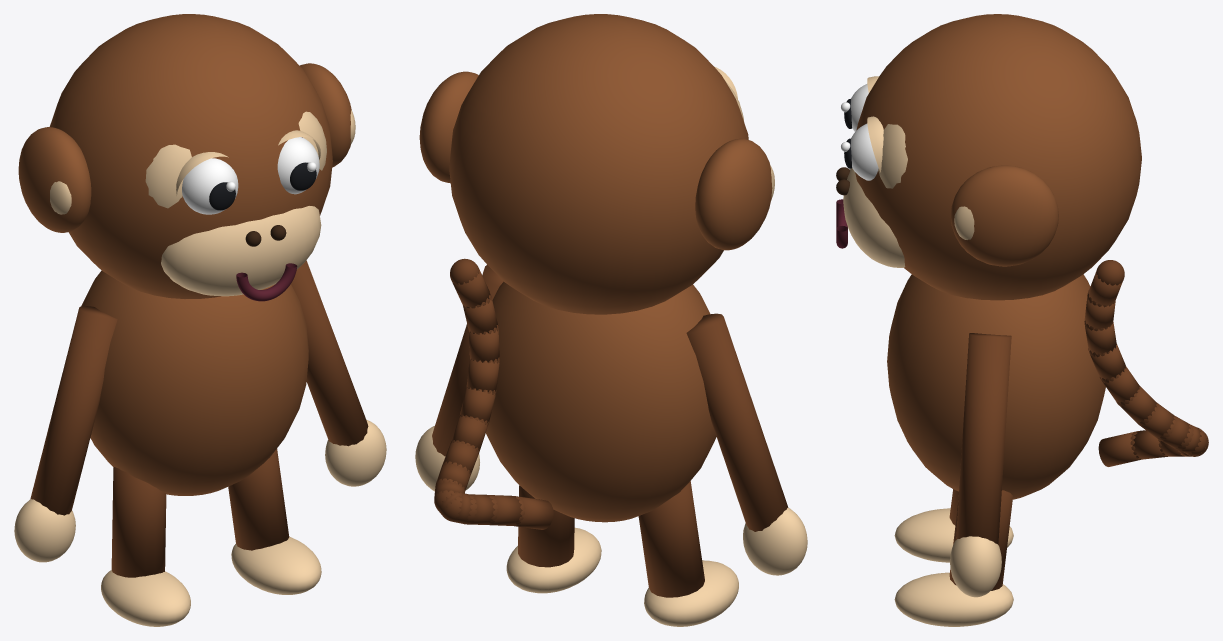
File: mono.glb
3 views of the same model, side by side, from view 1: azimuth 30°, elevation 25°; view 2: azimuth 150°, elevation 25°; view 3: azimuth 270°, elevation 25° (orthographic). The views are drawn at different scales.
Visible parts, largest first — view 1: Sphere.004, Sphere, brazo_i, Sphere.011, brazo_d, Sphere.006, Cylinder, Cylinder.001, Sphere.002, Sphere.003, Sphere.009, Sphere.005 (+7 smaller); view 2: Sphere.004, Sphere, brazo_i, cola, Sphere.006, Cylinder, brazo_d, Sphere.002, Sphere.009, Sphere.003, Cylinder.001; view 3: Sphere.004, Sphere, brazo_d, cola, Sphere.009, Sphere.003, Sphere.011, Sphere.002, Sphere.008, Sphere.014, Cylinder.001, parpado_d (+1 smaller).
Part boxes in pixels (<box>): Sphere.004: <box>49,14,332,298</box>; Sphere: <box>81,270,308,495</box>; brazo_i: <box>14,306,117,562</box>; Sphere.011: <box>161,206,321,296</box>; brazo_d: <box>291,260,386,486</box>; Sphere.006: <box>18,127,91,232</box>; Cylinder: <box>111,467,166,577</box>; Cylinder.001: <box>228,449,289,550</box>; Sphere.002: <box>101,570,190,626</box>; Sphere.003: <box>231,536,321,594</box>; Sphere.009: <box>300,63,351,167</box>; Sphere.005: <box>145,144,191,208</box>; Sphere.004: <box>449,14,748,314</box>; Sphere: <box>486,281,716,522</box>; brazo_i: <box>686,313,807,575</box>; cola: <box>434,258,553,529</box>; Sphere.006: <box>695,138,772,250</box>; Cylinder: <box>638,481,704,597</box>; brazo_d: <box>415,265,503,491</box>; Sphere.002: <box>644,560,738,626</box>; Sphere.009: <box>419,71,478,183</box>; Sphere.003: <box>506,527,601,593</box>; Cylinder.001: <box>518,485,574,567</box>; Sphere.004: <box>855,14,1141,300</box>; Sphere: <box>887,274,1105,499</box>; brazo_d: <box>950,333,1011,597</box>; cola: <box>1084,260,1208,466</box>; Sphere.009: <box>950,165,1058,266</box>; Sphere.003: <box>894,572,1013,626</box>; Sphere.011: <box>843,168,905,267</box>; Sphere.002: <box>894,508,1013,562</box>; Sphere.008: <box>878,124,907,188</box>; Sphere.014: <box>851,123,878,180</box>; Cylinder.001: <box>949,490,1012,590</box>; parpado_d: <box>867,116,883,172</box>.
Size of the model in its own units: 1.18 by 1.72 by 1.03.
